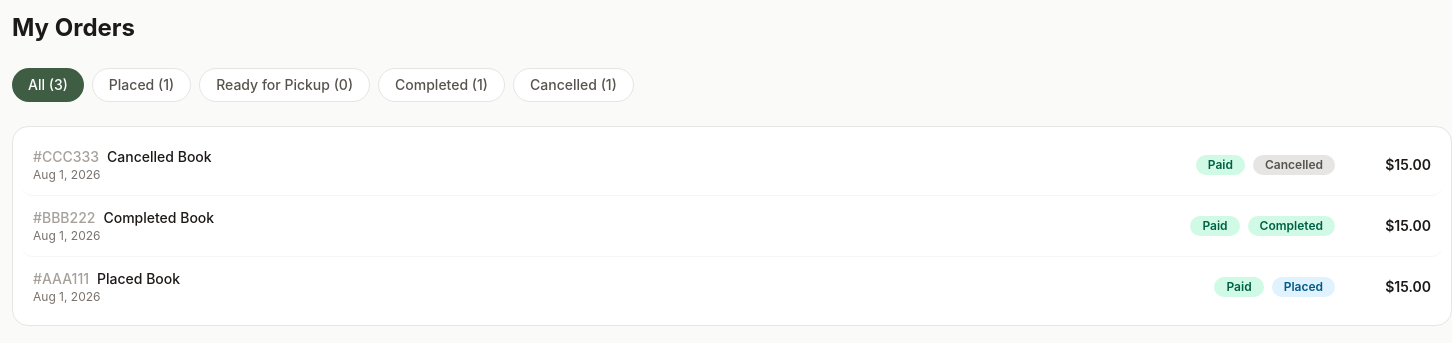
Test: OrdersPage › filters to a single status when its tab is selected
The width and height of the screenshot is (1452, 343).
Expected: the text "Placed Book" is shown, [97,269,180,289]
Step 1. Click the button "Completed (1)" → (442, 85), box [378,68,505,102]
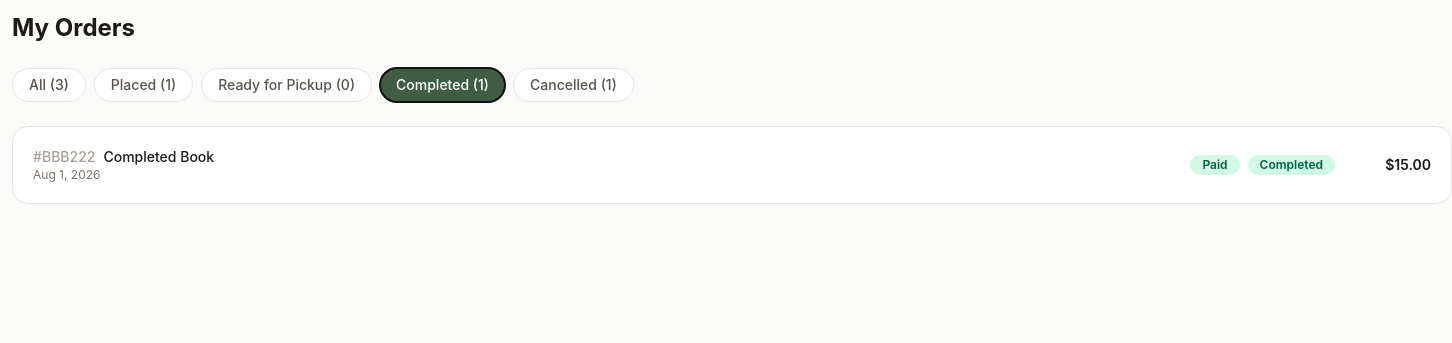
Expected: the text "Completed Book" is shown, [103,147,214,167]
Result: the link "Placed Book" is gone
Result: the link "Cancelled Book" is gone
